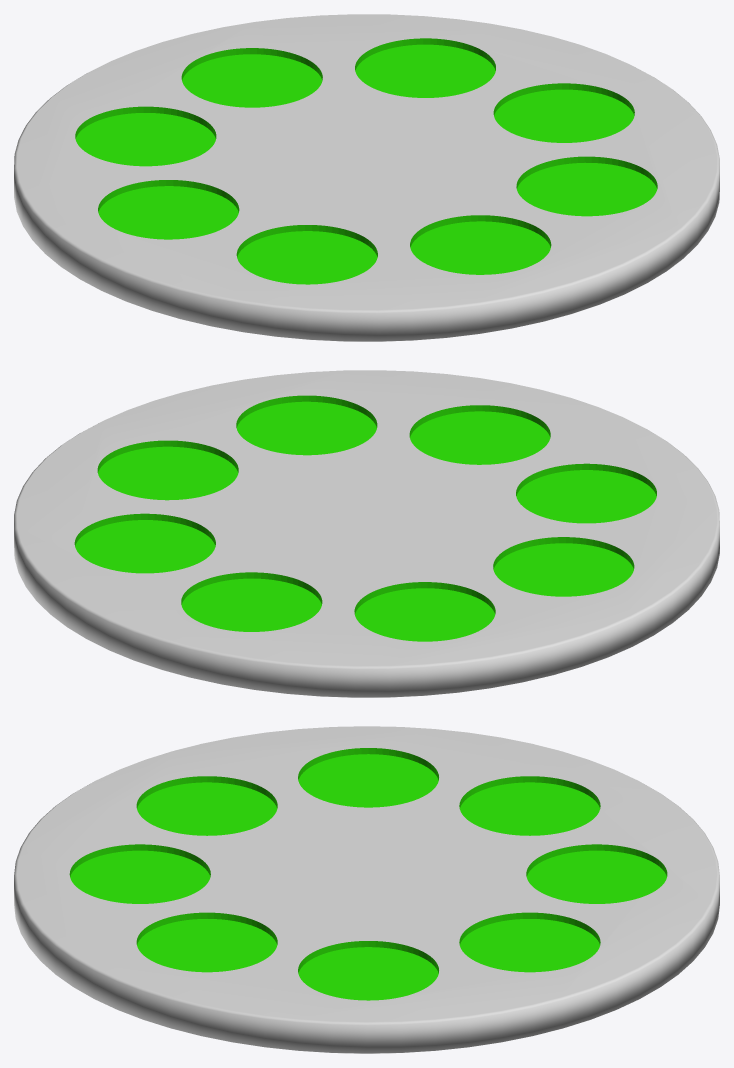
File: pregame_platform.glb
3 views of the same model, one above another, from view 1: azimuth 30°, elevation 25°; view 2: azimuth 150°, elevation 25°; view 3: azimuth 270°, elevation 25° (orthographic).
Parts seen in each view (by area): view 1: Cylinder; view 2: Cylinder; view 3: Cylinder.
Boxes of the visible parts, x1,y1,x2,y2 form: Cylinder: [14, 14, 719, 341]; Cylinder: [14, 370, 719, 697]; Cylinder: [14, 726, 719, 1053].
Size of the model in its own units: 30 by 1.5 by 30.
